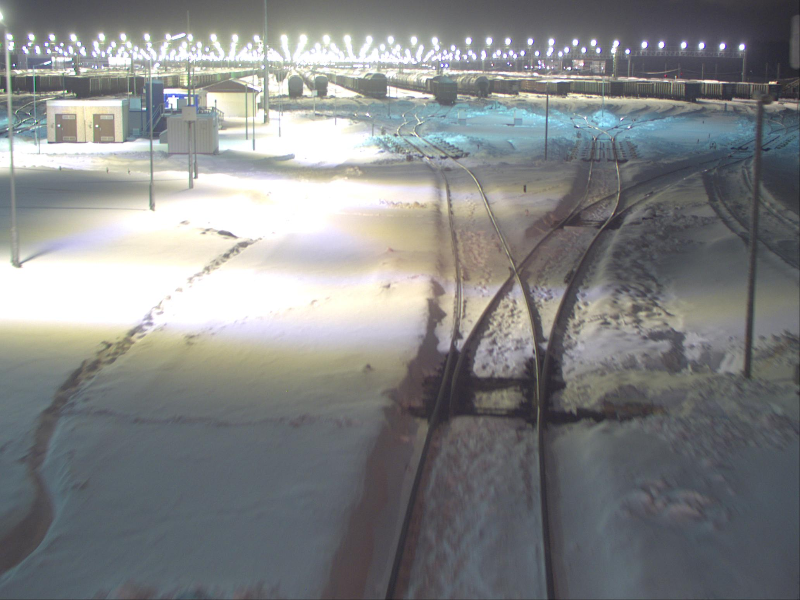railway_arrows: (444, 258, 550, 430), (566, 180, 628, 236)
